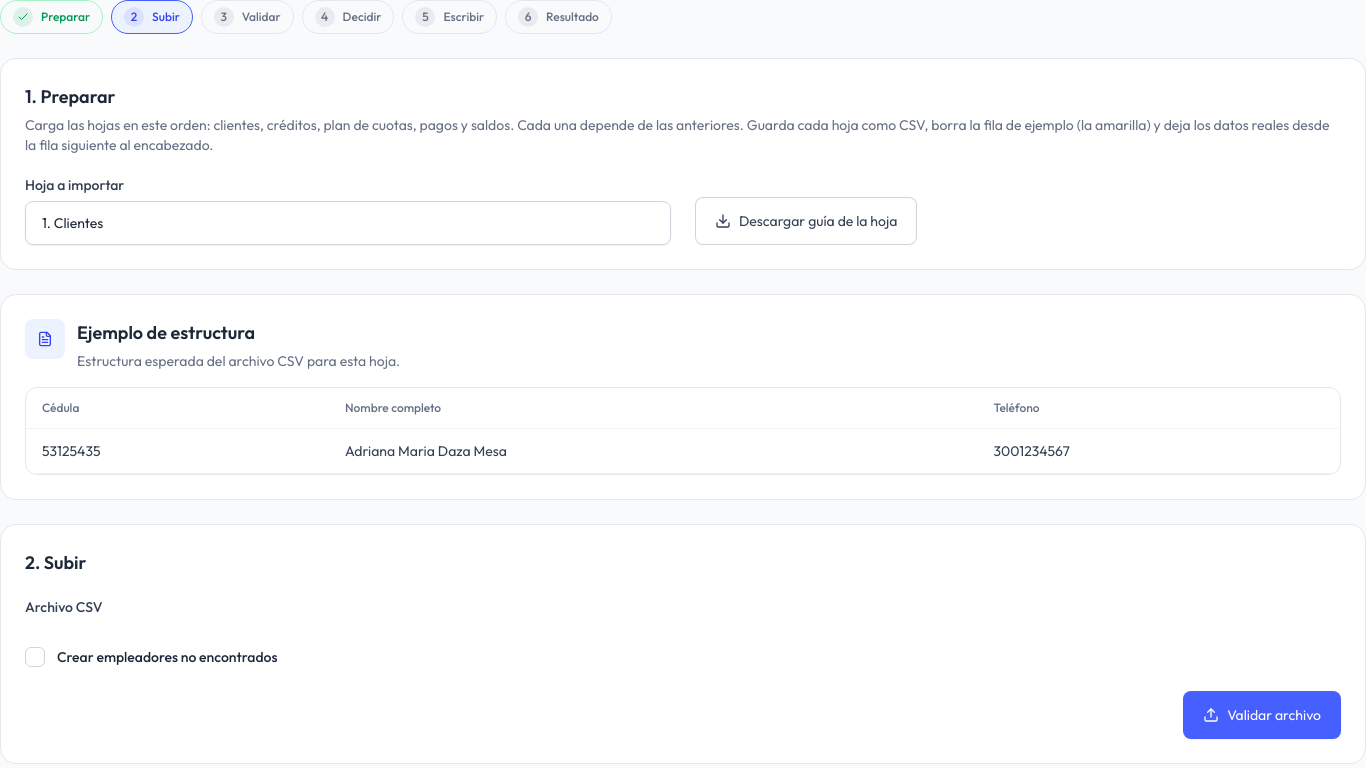
NewImportPage › muestra el motivo del rechazo del backend en lugar de navegar
The image size is (1366, 768).
Click the button "Validar archivo". click: coordinates (1262, 715)
box: 1183,691 -> 1341,739
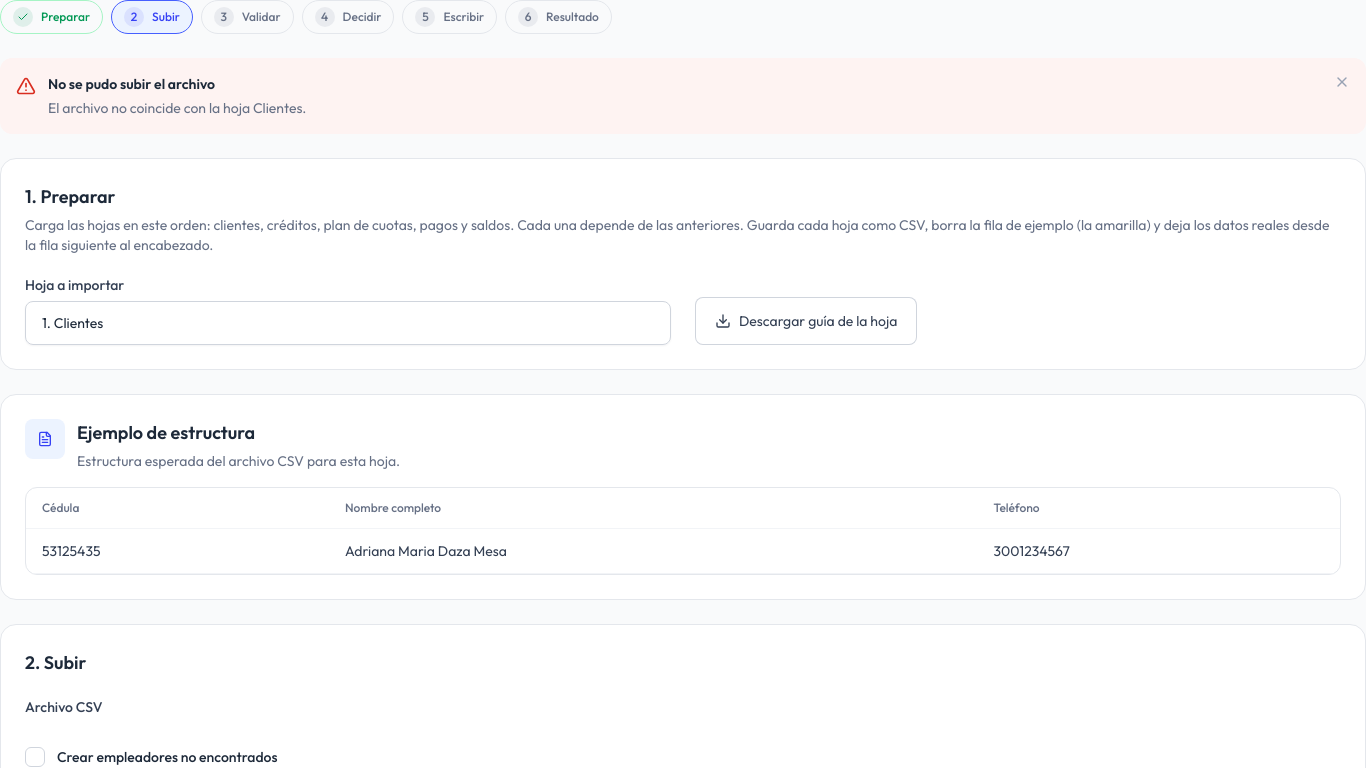
Result: the text "El archivo no coincide con la hoja Clientes." is shown at 48,99 -> 306,117
